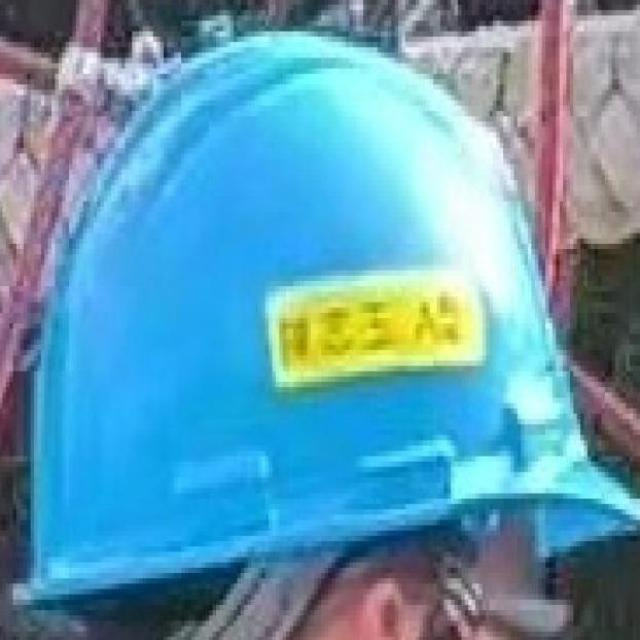blue helmet: (14, 33, 640, 608)
